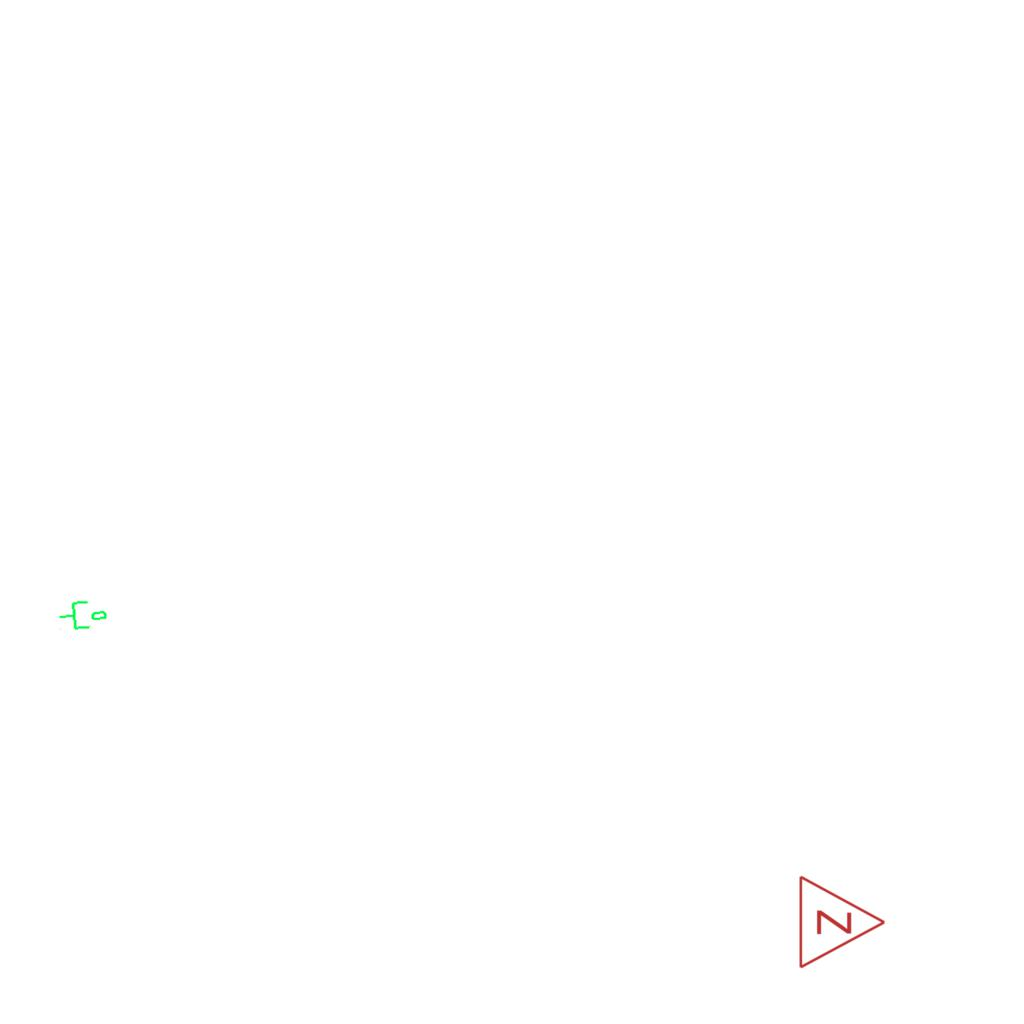Datenanschluss_einfach: (56, 594, 110, 634)
Zimmersignalleuchte: (792, 872, 892, 970)
